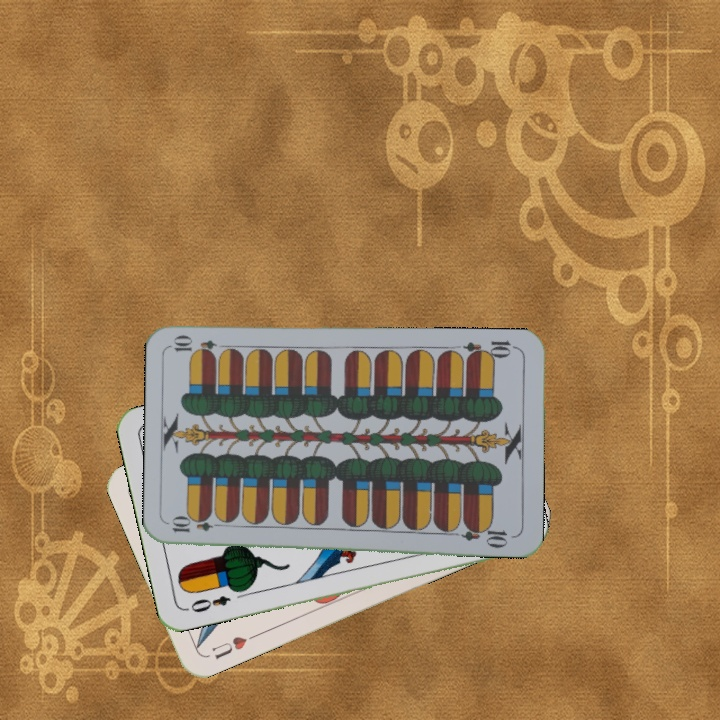E10: (460, 336, 519, 363), (168, 517, 227, 535)
EO: (186, 591, 233, 615)
HU: (207, 630, 260, 662)
